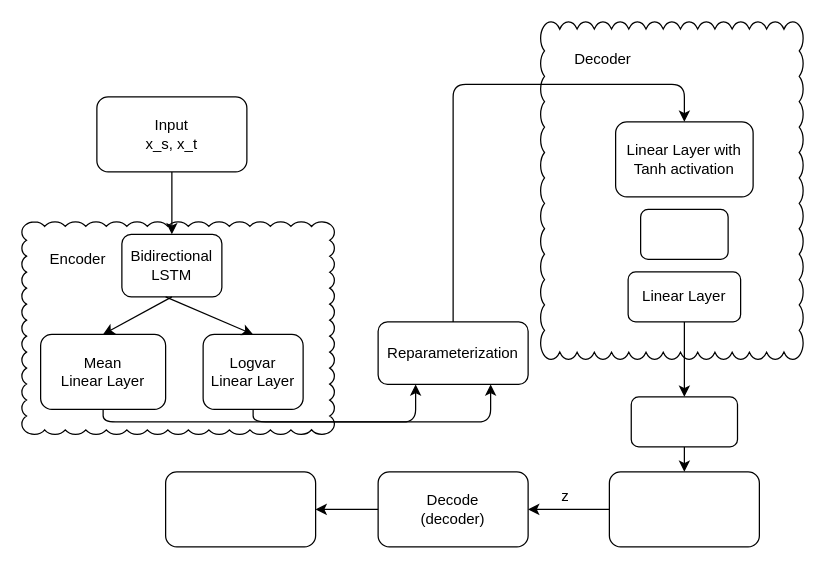
This 825x569 diagram has some shape labels left out. Here are the shapes that lost their labels. From the top down, the centre of each, then its label:
[683,233]: LSTM
[684,421]: Output z_s, z_t
[240,509]: Output (blended track)
[683,509]: Linear Interpolation (torch.lerp)
